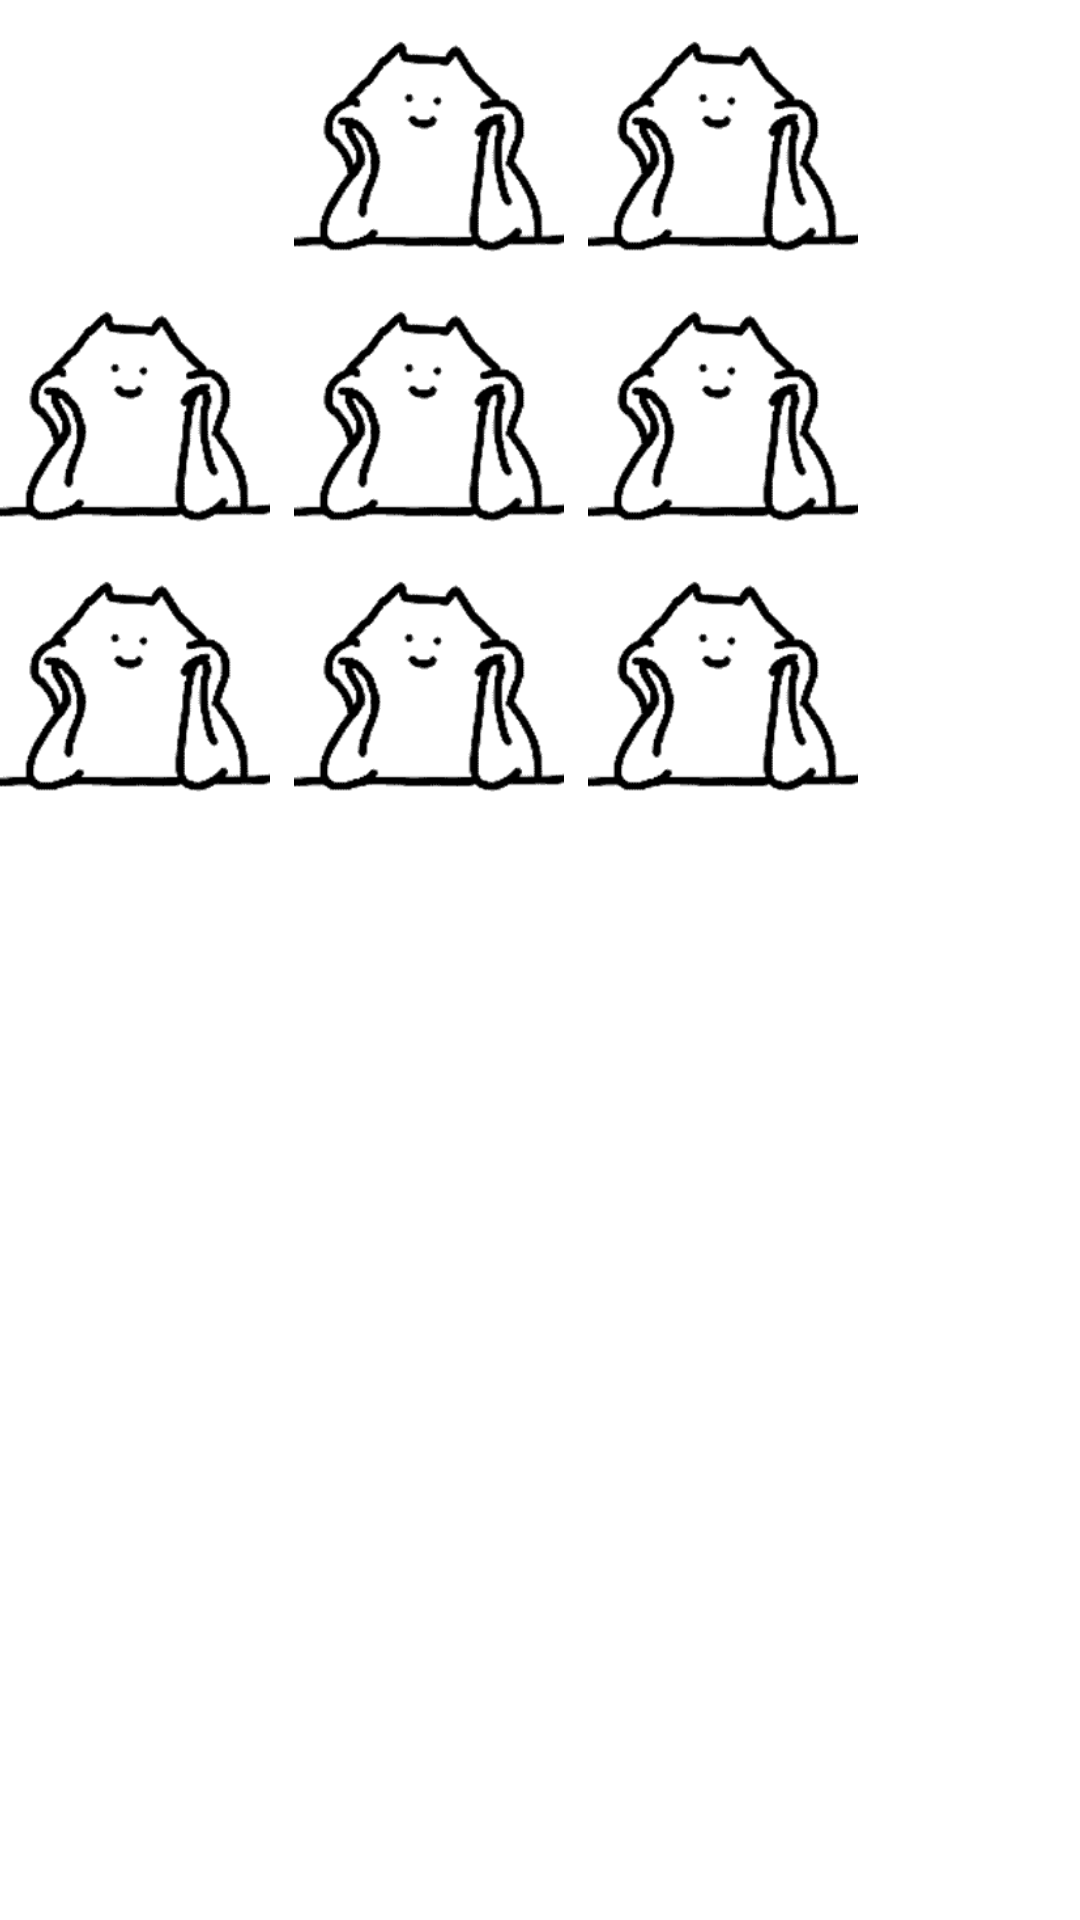

Icon bounding boxes for this 1080px x 1920px phone screenshot, format (x1, y1, x2, y2):
cat: (294, 41, 564, 252), (588, 41, 858, 252), (0, 311, 270, 522), (294, 311, 564, 522), (588, 311, 858, 522), (0, 581, 270, 792), (294, 581, 564, 792), (588, 581, 858, 792)
